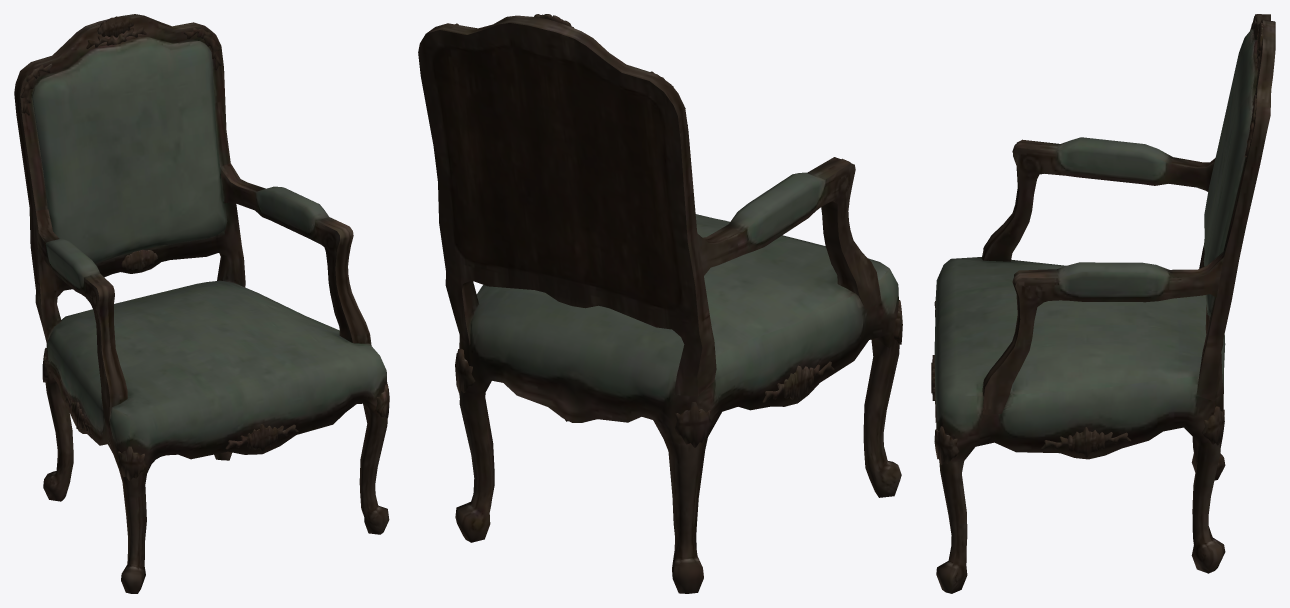
The model's file is GreenChair_01.glb.
3 renders of one model, left to right at view 1: azimuth 30°, elevation 25°; view 2: azimuth 150°, elevation 25°; view 3: azimuth 270°, elevation 25°, orthographic. The views are drawn at different scales.
Visible parts, largest first — view 1: GreenChair_01; view 2: GreenChair_01; view 3: GreenChair_01.
Part boxes in pixels (x1=…): GreenChair_01: x1=14, y1=14, x2=389, y2=593; GreenChair_01: x1=418, y1=14, x2=902, y2=593; GreenChair_01: x1=931, y1=14, x2=1275, y2=593.
Bounding box in the file's own units: 0.6732 × 1.06 × 0.6644.
Materials: 2 (2 with a texture image).
